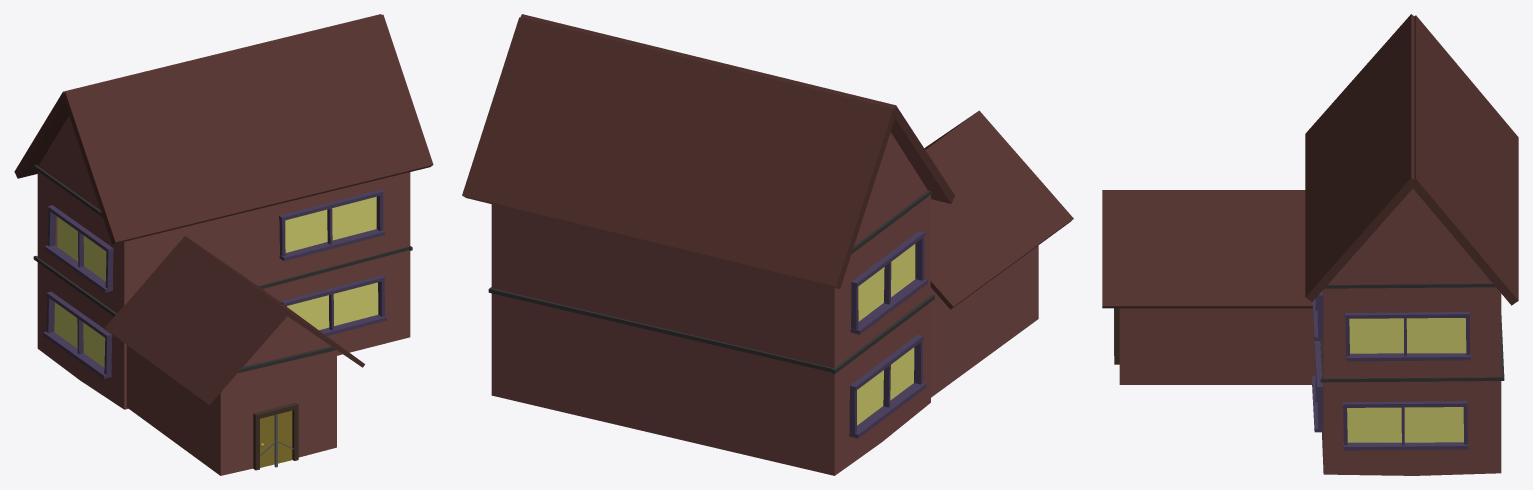
File: House5.fbx
The picture shows the model from 3 angles, left to right: view 1: azimuth 30°, elevation 25°; view 2: azimuth 150°, elevation 25°; view 3: azimuth 270°, elevation 25°; orthographic projection. The views are drawn at different scales.
Parts seen in each view (by area): view 1: Cube.005, Cube.001, Cube, Cube.002, Cube.054, Cube.055, Cube.004, Cube.009, Cube.043, Cube.042, Cube.003, Cube.050 (+10 smaller); view 2: Cube.001, Cube.004, Cube.002, Cube, Cube.005, Cube.015, Cube.043, Cube.042, Cube.020, Cube.032, Cube.031, Cube.019 (+1 smaller); view 3: Cube.001, Cube.003, Cube.005, Cube.004, Cube, Cube.040, Cube.041, Cube.024, Cube.028, Cube.014, Cube.023, Cube.027 (+1 smaller).
Boxes of the visible parts, box(x1,y1,x2,y2) form: Cube.005: box(62, 14, 433, 244); Cube.001: box(37, 116, 410, 409); Cube: box(126, 316, 336, 475); Cube.002: box(105, 236, 289, 404); Cube.054: box(285, 196, 376, 252); Cube.055: box(287, 282, 378, 330); Cube.004: box(14, 14, 381, 178); Cube.009: box(260, 410, 292, 467); Cube.043: box(54, 302, 105, 367); Cube.042: box(57, 217, 106, 281); Cube.003: box(185, 236, 364, 367); Cube.050: box(279, 229, 385, 261); Cube.001: box(491, 132, 930, 475); Cube.004: box(462, 17, 896, 288); Cube.002: box(925, 111, 1073, 309); Cube: box(931, 245, 1038, 397); Cube.005: box(520, 14, 954, 203); Cube.015: box(489, 288, 833, 372); Cube.043: box(857, 347, 914, 425); Cube.042: box(858, 244, 915, 321); Cube.020: box(849, 383, 926, 438); Cube.032: box(850, 279, 927, 334); Cube.031: box(851, 231, 925, 286); Cube.019: box(850, 334, 923, 390); Cube.001: box(1322, 188, 1501, 475); Cube.003: box(1102, 190, 1312, 308); Cube.005: box(1305, 14, 1415, 301); Cube.004: box(1409, 15, 1518, 305); Cube: box(1119, 308, 1315, 384); Cube.040: box(1347, 407, 1463, 442); Cube.041: box(1349, 318, 1466, 353); Cube.024: box(1343, 442, 1468, 450); Cube.028: box(1346, 353, 1470, 361); Cube.014: box(1320, 376, 1504, 382); Cube.023: box(1342, 401, 1467, 407); Cube.027: box(1344, 312, 1469, 318).
Size of the model in its own units: 1422 by 1224 by 1506.
